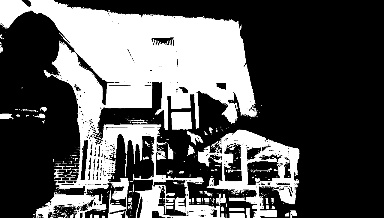H: (160, 91, 199, 129)
